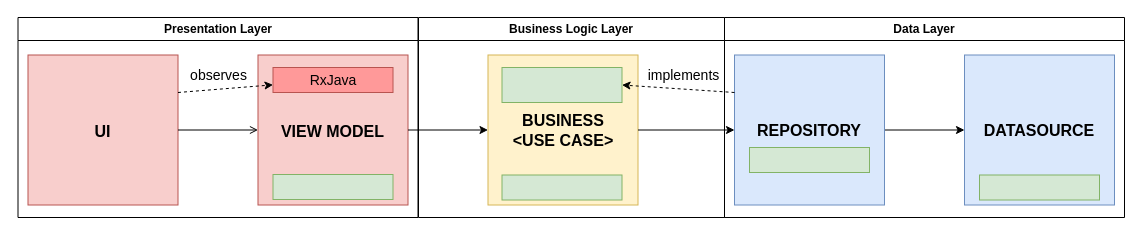
The diagram is 1142 pixels wide and 235 high, and some of its shapes have lost their labels. The shapes that lost their labels are listed below. From the top down, each one's centre as x and y in pixels, then its label:
At point (561, 84): "Repository Interface".
At point (809, 159): "mapper".
At point (332, 187): "view model data".
At point (561, 187): "use case data".
At point (1039, 187): "datasource data".
